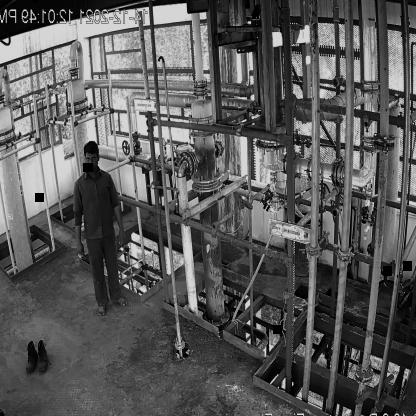no_shoes: (112, 296, 130, 307), (97, 305, 109, 319)
shoes: (34, 339, 50, 374), (24, 341, 37, 372)
